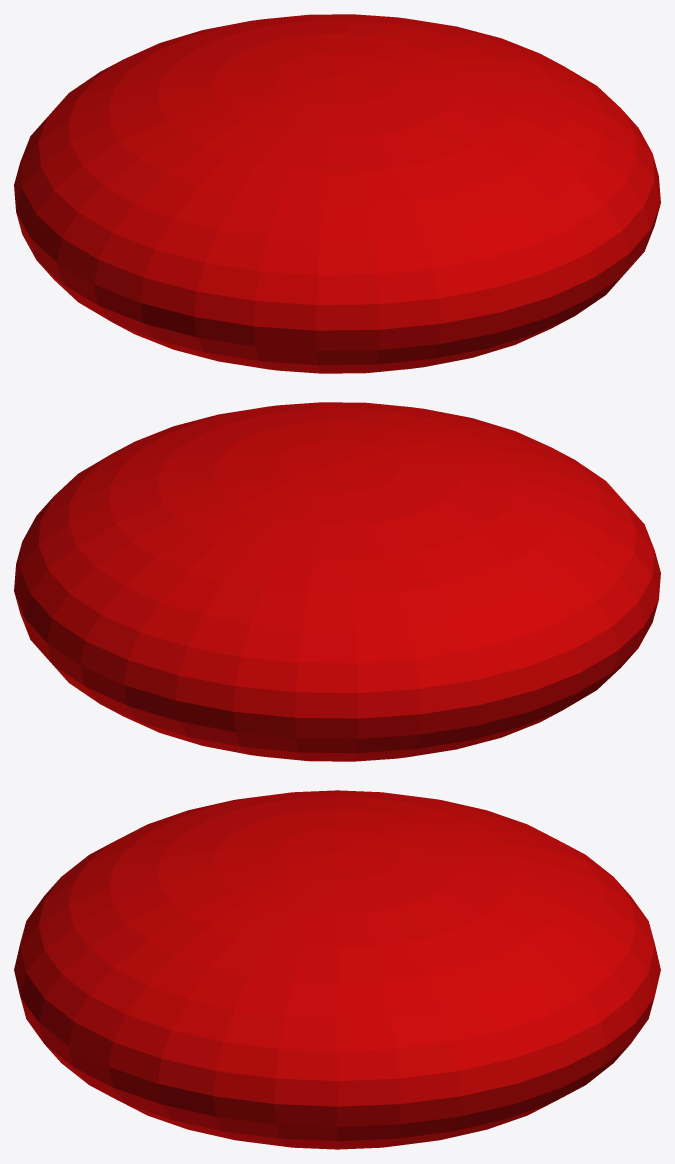
The model's file is switchRed.obj.
3 views of the same model, one above another, from view 1: azimuth 30°, elevation 25°; view 2: azimuth 150°, elevation 25°; view 3: azimuth 270°, elevation 25° (orthographic).
Parts seen in each view (by area): view 1: 球; view 2: 球; view 3: 球.
Boxes of the visible parts, x1=… form: 球: x1=14, y1=14, x2=660, y2=373; 球: x1=14, y1=402, x2=660, y2=761; 球: x1=14, y1=790, x2=660, y2=1149.
Size of the model in its own units: 1.27 by 0.5069 by 1.27.
